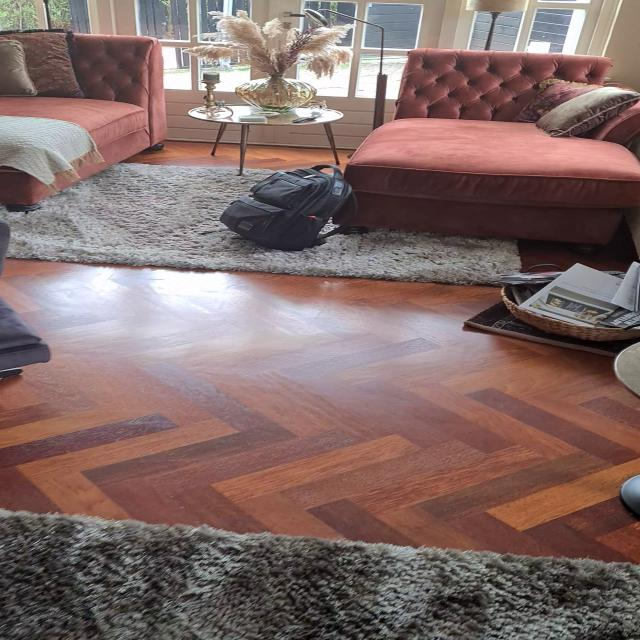backpack: (214, 161, 363, 254)
